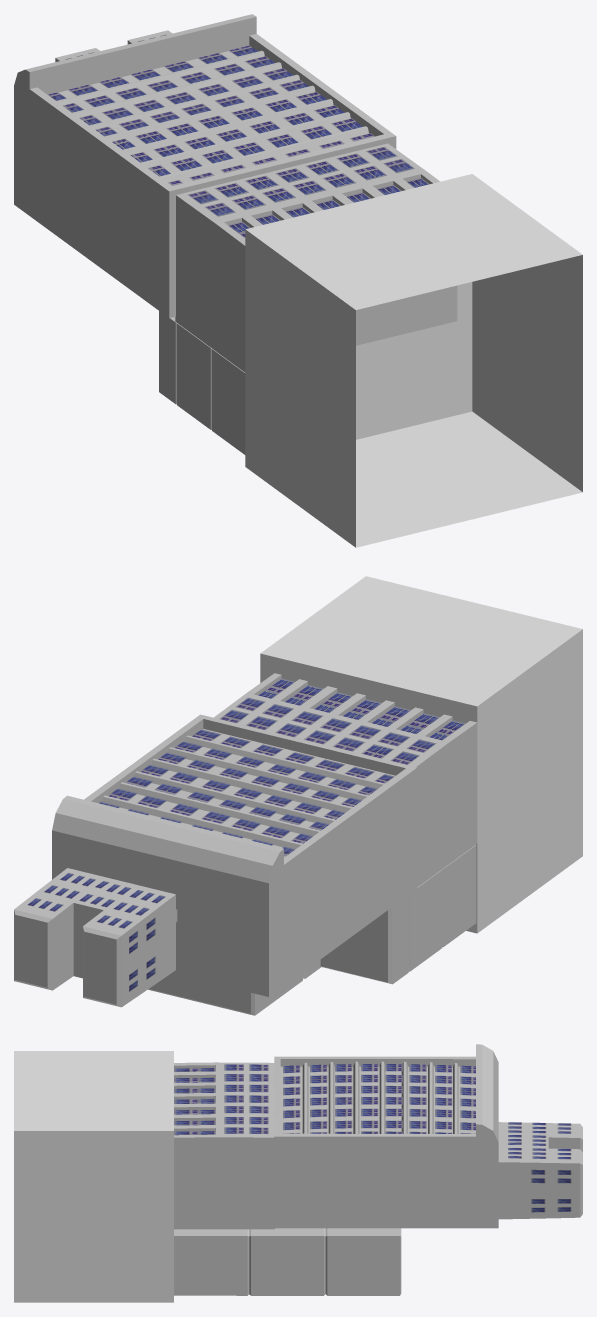
The model's file is block_fat_02.FBX.
3 views of the same model, one above another, from view 1: azimuth 30°, elevation 25°; view 2: azimuth 150°, elevation 25°; view 3: azimuth 270°, elevation 25° (orthographic). The views are drawn at different scales.
Visible parts, largest first — view 1: Plane002, building_8s_002, building_commercial_4s, building_apartment_5s; view 2: building_8s_002, Plane002, building_commercial_4s, building_neonepali_3s, building_apartment_5s, building_apartment_9s; view 3: Plane002, building_8s_002, building_commercial_4s, building_apartment_9s, building_neonepali_3s.
Part boxes in pixels (x1,y1,x2,y2): Plane002: [245, 174, 582, 547]; building_8s_002: [14, 14, 396, 317]; building_commercial_4s: [175, 143, 457, 372]; building_apartment_5s: [159, 311, 245, 454]; building_8s_002: [52, 714, 417, 996]; Plane002: [260, 576, 582, 933]; building_commercial_4s: [214, 673, 477, 887]; building_neonepali_3s: [14, 868, 177, 1007]; building_apartment_5s: [320, 845, 476, 984]; building_apartment_9s: [148, 959, 320, 1015]; Plane002: [14, 1051, 173, 1302]; building_8s_002: [274, 1044, 498, 1228]; building_commercial_4s: [174, 1062, 274, 1229]; building_apartment_9s: [174, 1228, 401, 1295]; building_neonepali_3s: [498, 1122, 582, 1219].
Bounding box in the file's own units: 30.97 × 30.74 × 90.04.
